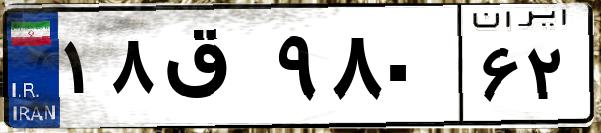0: (385, 28, 445, 110)
1: (57, 26, 110, 100)
2: (525, 38, 570, 115)
6: (475, 38, 525, 113)
8: (330, 28, 385, 110), (110, 28, 158, 98)
9: (270, 28, 330, 110)
ق: (158, 20, 270, 120)
